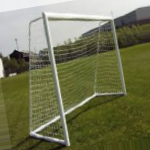goals: (27, 10, 128, 145)
